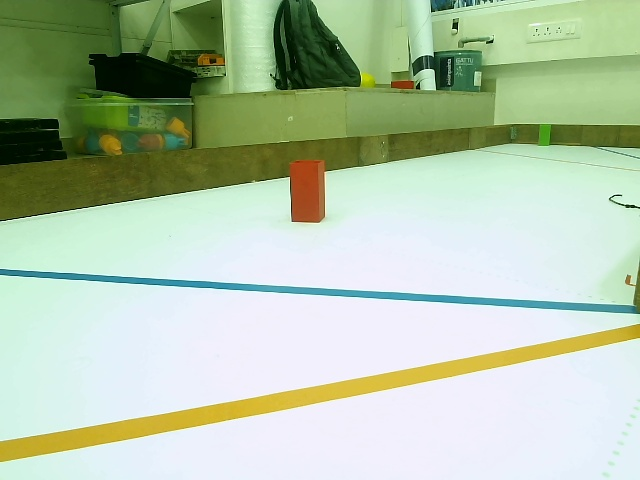red: (292, 161, 325, 222)
